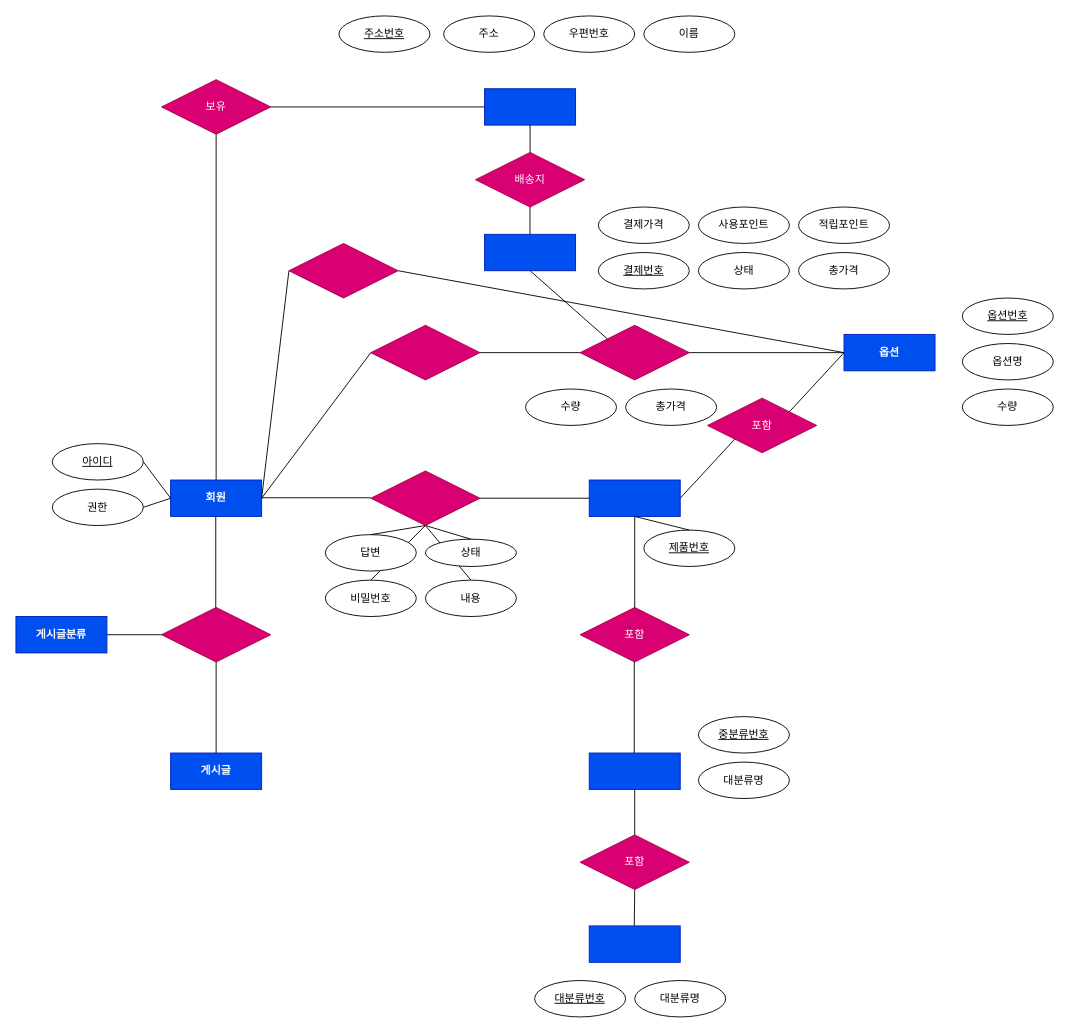
Image size: 1069x1033. Some labels were removed from this diagram. The shapes that lost their labels are listed below. From the top down, each one's box as (x1, y1, x2, y2) in pixels, then its label:
(484, 88, 576, 125): 주소록
(288, 243, 398, 298): 장바구니
(484, 233, 576, 271): 주문내역
(370, 324, 480, 380): 주문
(579, 324, 689, 380): 주문목록
(370, 470, 480, 526): 문의
(588, 479, 680, 516): 제품
(161, 607, 271, 662): 등록
(588, 752, 680, 789): 제품 중분류
(588, 925, 680, 962): 제품 대분류
